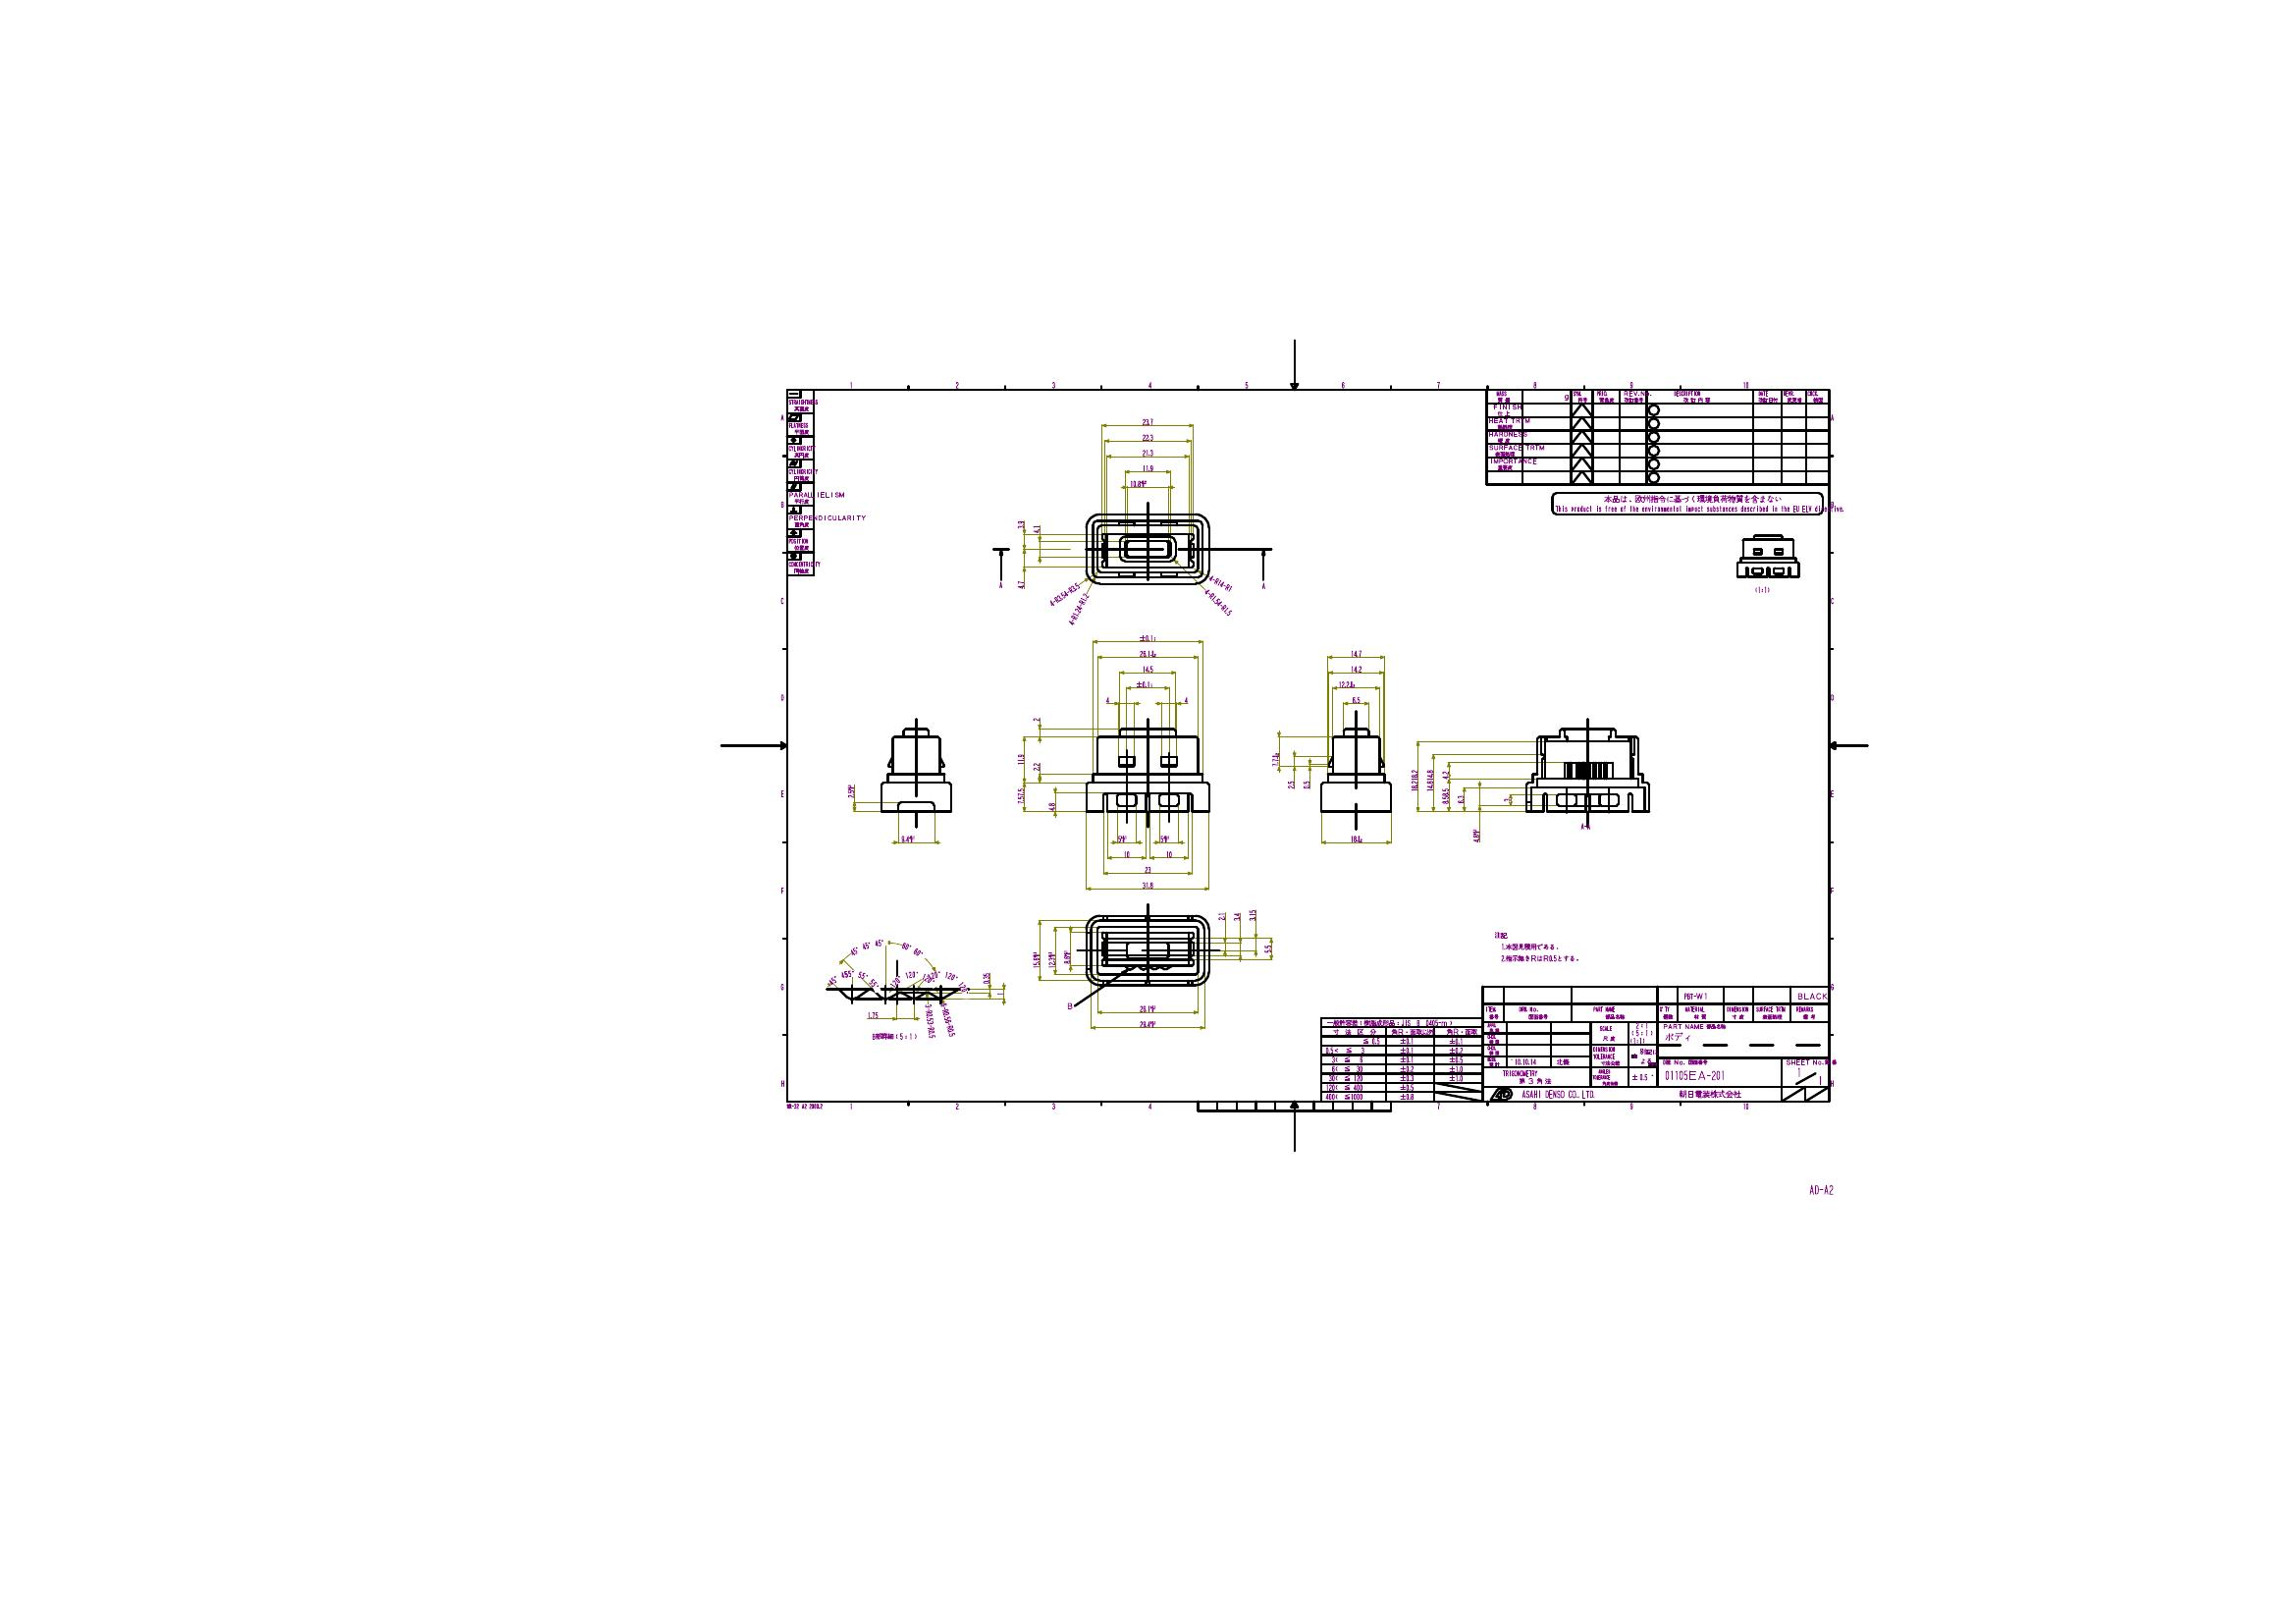anntotation_text: (1549, 492, 1823, 513), (1488, 928, 1579, 968), (870, 1028, 921, 1044), (1808, 1181, 1836, 1195), (787, 1100, 824, 1109), (1751, 584, 1773, 592), (1579, 823, 1592, 831), (1065, 1000, 1072, 1011), (1260, 582, 1267, 589), (998, 582, 1005, 589)
dimension_text: (845, 942, 884, 951), (926, 1002, 935, 1039), (1200, 598, 1237, 606), (1047, 591, 1082, 599), (1073, 592, 1082, 626), (943, 1002, 950, 1035), (1425, 768, 1433, 793), (1409, 768, 1418, 793), (1207, 580, 1233, 587), (1138, 1002, 1156, 1012), (1440, 784, 1449, 805), (1015, 784, 1024, 805), (899, 946, 924, 953), (1031, 949, 1040, 968), (1138, 649, 1158, 657), (1138, 1018, 1156, 1026), (1047, 949, 1056, 967), (1270, 750, 1279, 768), (1349, 663, 1363, 673), (1140, 446, 1154, 457), (845, 782, 854, 798), (1140, 633, 1156, 642), (1337, 680, 1356, 687), (1029, 522, 1040, 534), (1063, 949, 1070, 967), (889, 977, 903, 986), (1349, 649, 1363, 657), (1140, 881, 1154, 889), (1137, 680, 1154, 687), (1140, 432, 1154, 441), (1130, 480, 1147, 487), (1472, 826, 1479, 842), (1017, 750, 1024, 766), (899, 835, 915, 842), (826, 975, 838, 984), (982, 972, 991, 984), (1440, 768, 1449, 780), (1142, 664, 1154, 673), (1031, 761, 1040, 773), (1247, 909, 1256, 921), (866, 1011, 880, 1018), (1349, 835, 1363, 842), (1140, 418, 1154, 425), (1140, 464, 1154, 471), (1159, 833, 1170, 842), (1263, 942, 1272, 953), (1015, 518, 1024, 529), (1015, 580, 1024, 591), (945, 974, 957, 981), (905, 972, 917, 979), (841, 970, 854, 977), (1456, 793, 1463, 805), (1302, 777, 1309, 789), (1047, 800, 1054, 812), (1165, 849, 1173, 858), (1123, 849, 1131, 858), (1231, 912, 1238, 923), (1217, 910, 1224, 921), (959, 981, 966, 991), (926, 972, 940, 977), (921, 974, 931, 981), (868, 979, 878, 986), (1288, 779, 1295, 789), (1349, 696, 1360, 703), (1103, 694, 1110, 705), (857, 972, 866, 979), (1117, 835, 1126, 842), (1031, 715, 1040, 722), (1500, 796, 1507, 803), (1144, 865, 1151, 872), (1182, 694, 1189, 701)
object: (1087, 726, 1209, 814), (1527, 729, 1651, 812), (1084, 914, 1209, 986), (1087, 513, 1212, 584), (880, 726, 952, 812), (1321, 726, 1390, 812), (1736, 534, 1801, 576), (838, 986, 963, 1000)
title_block: (1321, 984, 1830, 1102), (1484, 390, 1829, 487), (787, 388, 815, 575)
